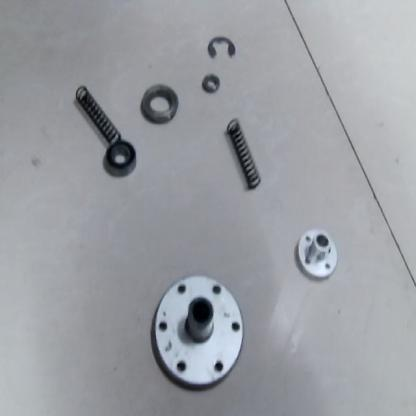FOD: (150, 269, 248, 395), (71, 82, 125, 145), (224, 116, 267, 194), (295, 228, 341, 282), (140, 80, 180, 126), (102, 139, 139, 176), (206, 34, 238, 60), (200, 70, 221, 96)
